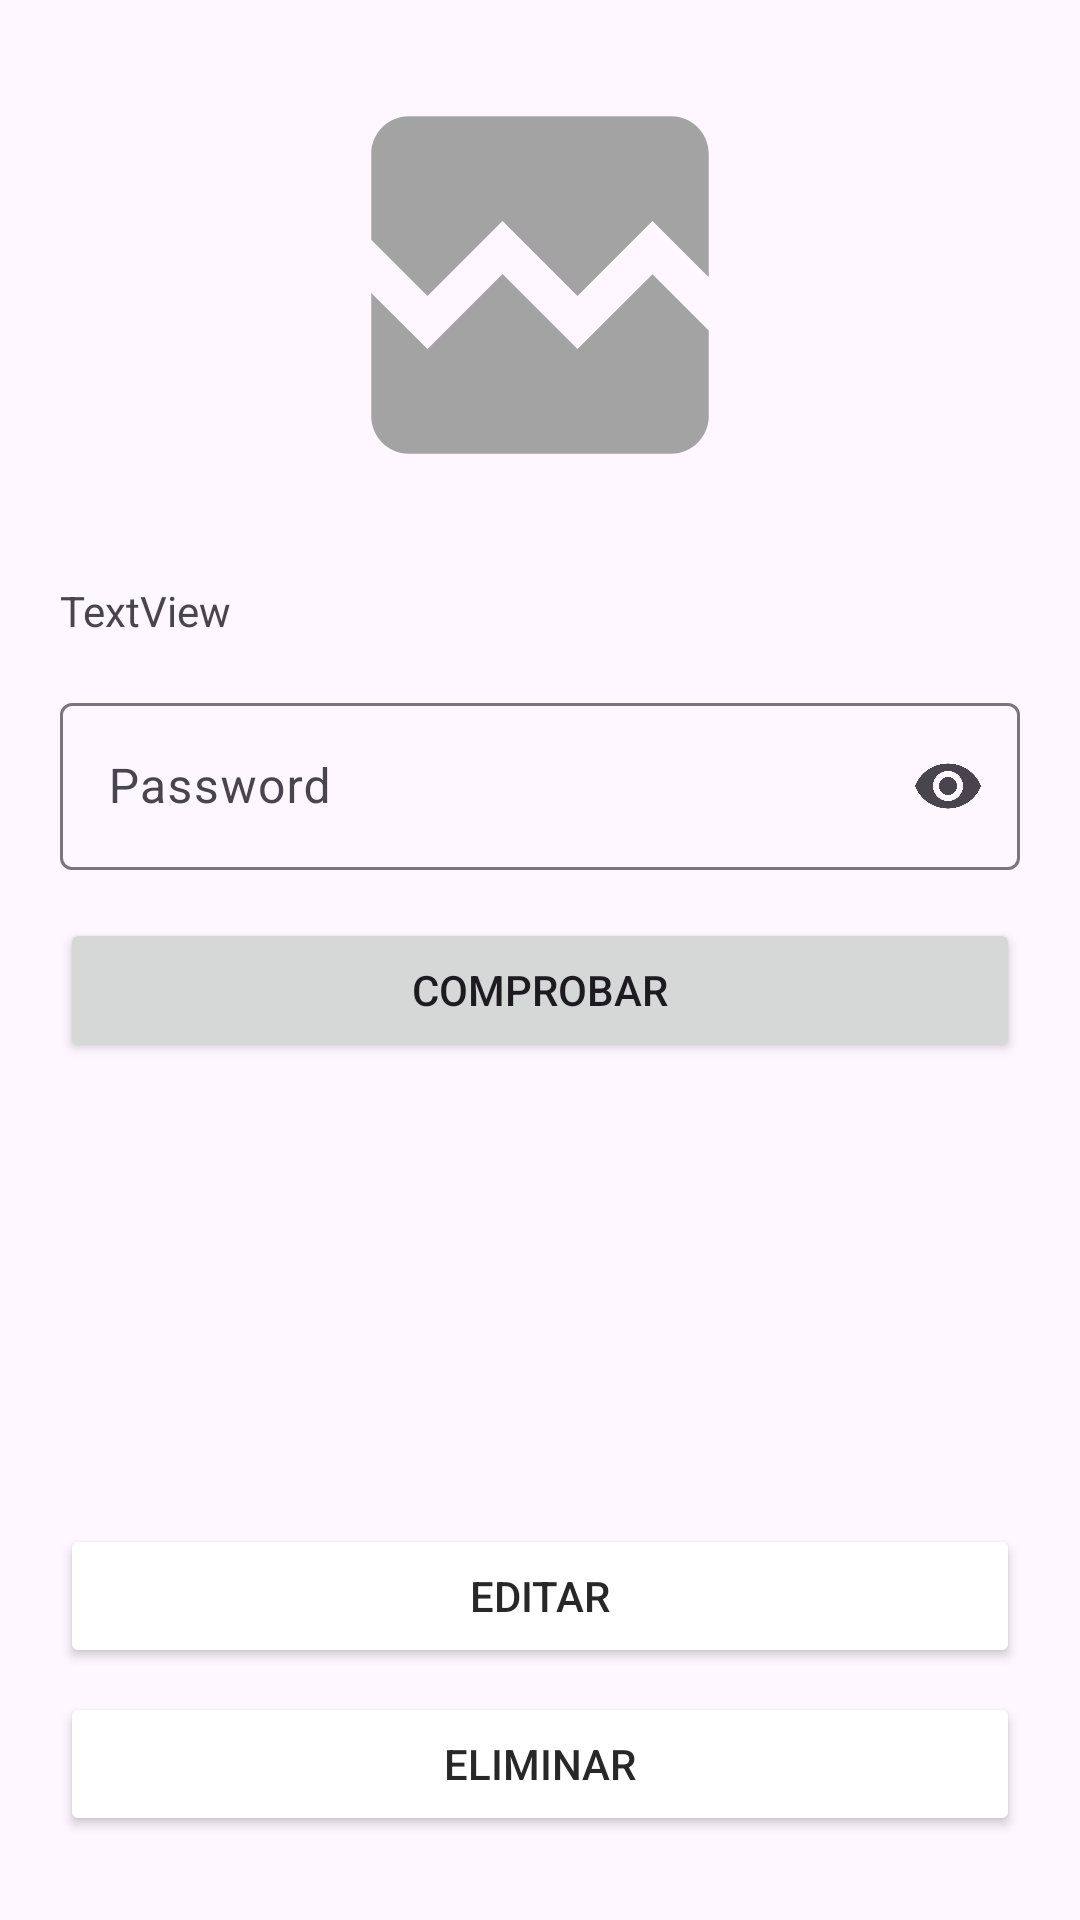

Named icons in this screenshot (1080×1920) and their bounding boxes, (x1, y1, x2, y2):
broken: (371, 116, 709, 454)
